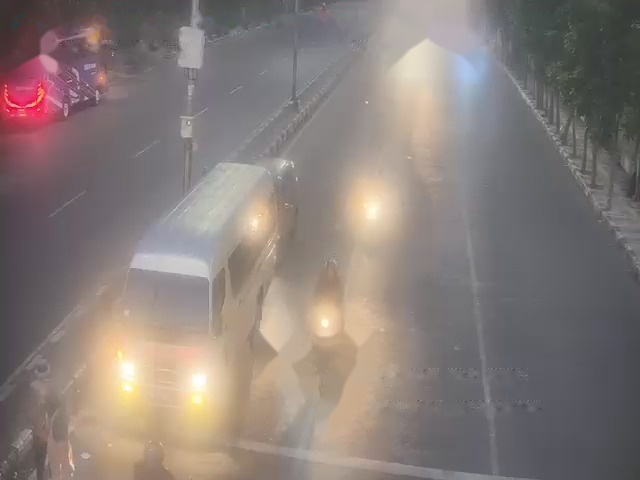Bis: (119, 162, 286, 406)
Mobil: (3, 37, 104, 122)
Motor: (314, 259, 349, 336), (7, 422, 47, 480), (351, 191, 386, 234)
